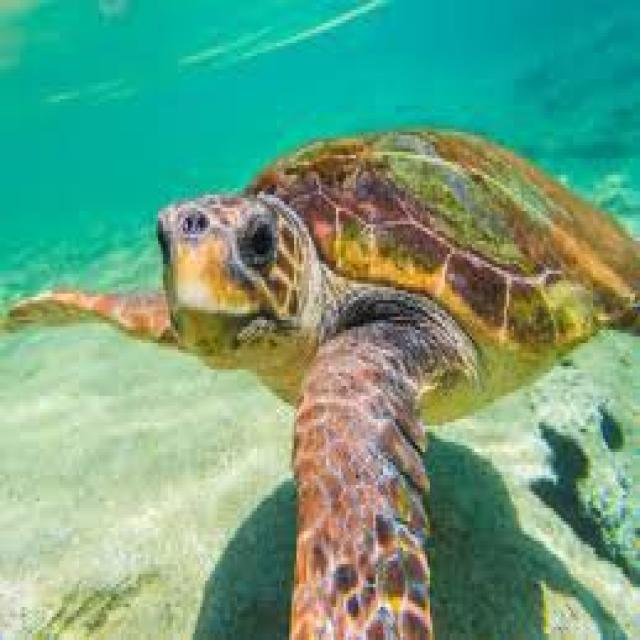turtle: (128, 174, 618, 479)
